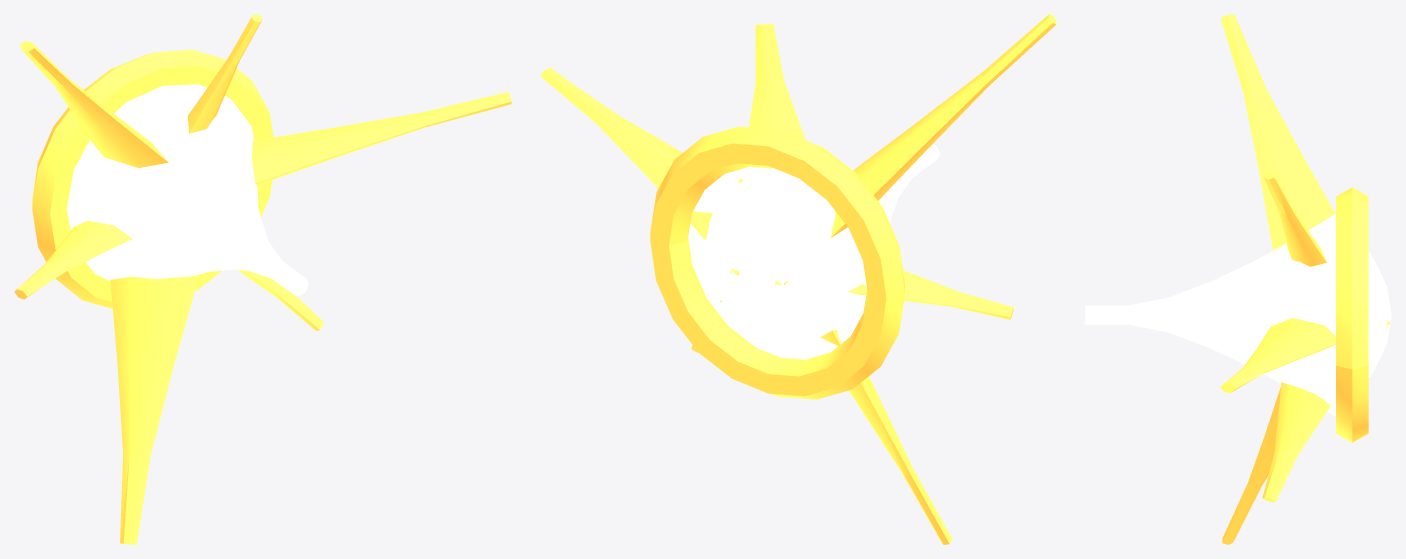
File: vfx-mesh-library-muzzle-star-flash-dc20f7ff__21910.glb
3 renders of one model, left to right at view 1: azimuth 30°, elevation 25°; view 2: azimuth 150°, elevation 25°; view 3: azimuth 270°, elevation 25°, orthographic. The views are drawn at different scales.
Parts seen in each view (by area): view 1: muzzle-star-flash; view 2: muzzle-star-flash; view 3: muzzle-star-flash.
Boxes of the visible parts, x1,y1,x2,y2 form: muzzle-star-flash: (14,14,511,544); muzzle-star-flash: (540,14,1056,544); muzzle-star-flash: (1085,14,1391,544).
Size of the model in its own units: 0.6602 by 0.6798 by 0.39.
